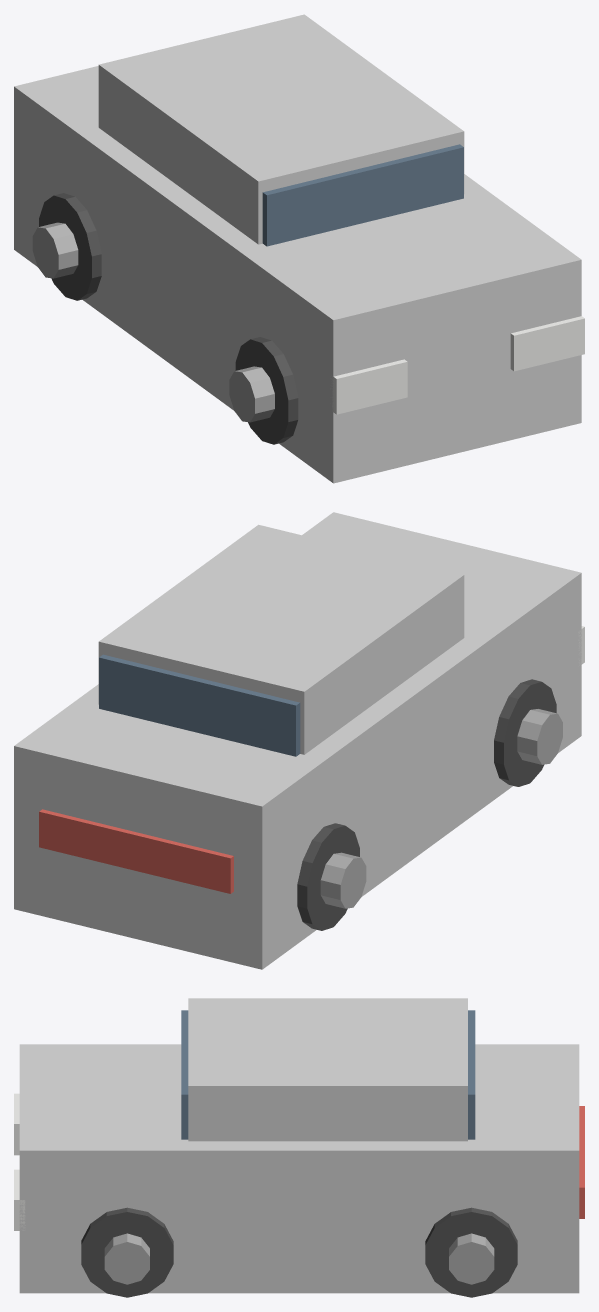
File: hatchback_hero.glb
The picture shows the model from 3 angles, top to bottom: view 1: azimuth 30°, elevation 25°; view 2: azimuth 150°, elevation 25°; view 3: azimuth 270°, elevation 25°; orthographic projection. The views are drawn at different scales.
Parts seen in each view (by area): view 1: body, cabin, glass_f, wheel_fr, wheel_rr, headlamp_l, headlamp_r, hub_-1_-1, hub_-1_1; view 2: body, cabin, glass_r, taillamp, wheel_rr, wheel_fr, hub_-1_-1, hub_-1_1; view 3: body, cabin, wheel_fl, wheel_rl, hub_1_1, hub_1_-1, glass_f, glass_r, taillamp, headlamp_r.
Part boxes in pixels (box(x1,y1,x2,y2)): body: box(14, 66, 581, 483); cabin: box(98, 14, 464, 244); glass_f: box(262, 144, 463, 246); wheel_fr: box(235, 337, 298, 444); wheel_rr: box(39, 193, 101, 300); headlamp_l: box(330, 359, 407, 414); headlamp_r: box(510, 316, 584, 371); hub_-1_-1: box(32, 222, 78, 278); hub_-1_1: box(229, 366, 274, 422); body: box(14, 512, 581, 969); cabin: box(98, 524, 464, 754); glass_r: box(99, 654, 300, 756); taillamp: box(39, 809, 233, 893); wheel_rr: box(297, 823, 359, 930); wheel_fr: box(494, 679, 556, 786); hub_-1_-1: box(320, 852, 366, 908); hub_-1_1: box(517, 709, 562, 764); body: box(19, 1044, 579, 1293); cabin: box(188, 998, 467, 1141); wheel_fl: box(81, 1207, 173, 1297); wheel_rl: box(425, 1207, 517, 1297); hub_1_1: box(104, 1233, 149, 1284); hub_1_-1: box(449, 1233, 494, 1284); glass_f: box(181, 1010, 188, 1139); glass_r: box(468, 1010, 475, 1139); taillamp: box(579, 1106, 584, 1218); headlamp_r: box(14, 1169, 25, 1230).
Size of the model in its own units: 2.17 by 1.52 by 3.98.
